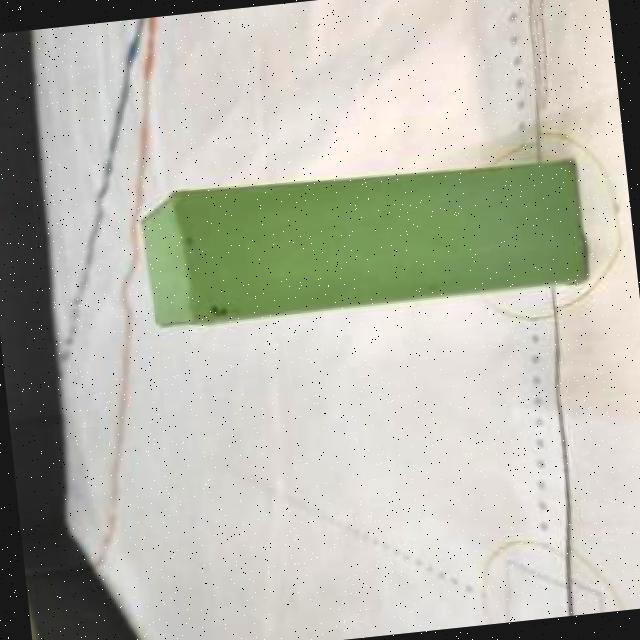greenbox: (132, 141, 594, 335)
